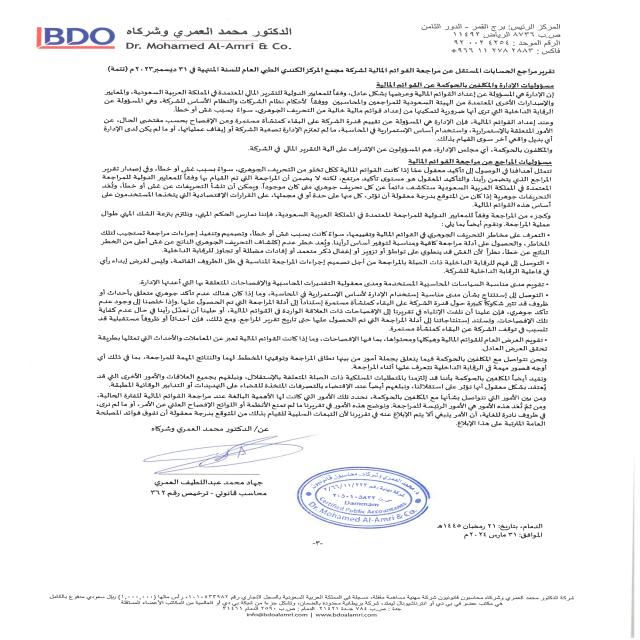auditor_report: (454, 66, 559, 78)
